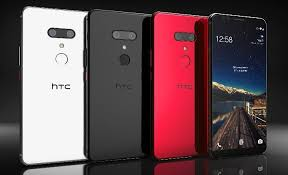htc: (18, 4, 85, 168), (81, 7, 150, 163), (148, 7, 209, 164), (207, 12, 270, 159)
